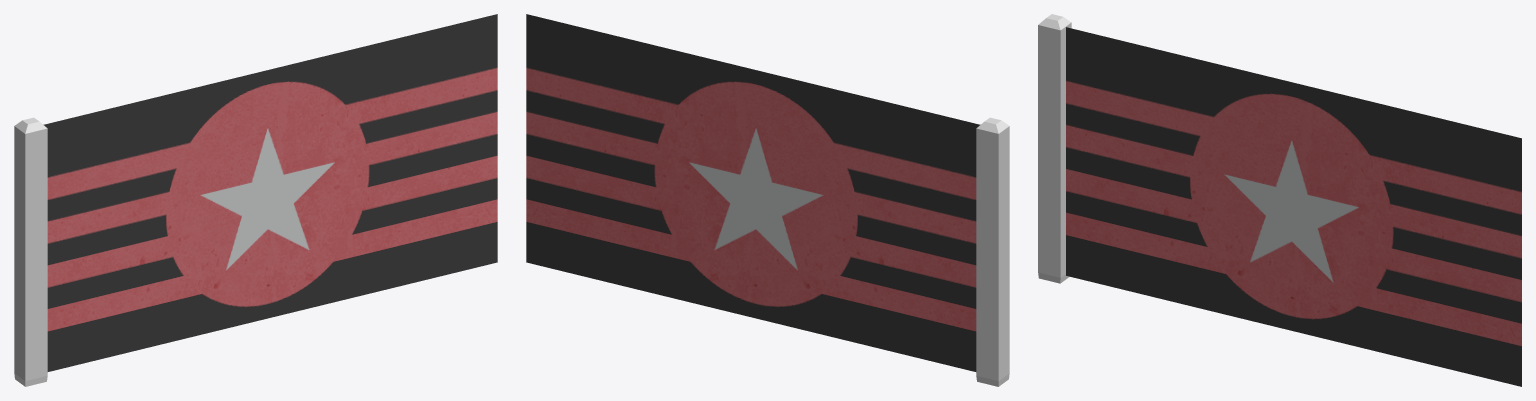
File: DystopianFlag.glb
3 views of the same model, side by side, from view 1: azimuth 30°, elevation 25°; view 2: azimuth 150°, elevation 25°; view 3: azimuth 330°, elevation 25° (orthographic).
Visible parts, largest first — view 1: Flag, Cube; view 2: Flag, Cube; view 3: Flag, Cube.
Boxes of the visible parts, bbox=[...] form: Flag: bbox=[43, 14, 497, 371]; Cube: bbox=[14, 117, 47, 386]; Flag: bbox=[526, 14, 980, 371]; Cube: bbox=[976, 117, 1009, 386]; Flag: bbox=[1066, 27, 1521, 386]; Cube: bbox=[1038, 14, 1071, 283].
Size of the model in its own units: 3.35 by 1.74 by 0.1328.
1 material, 1 textured.
